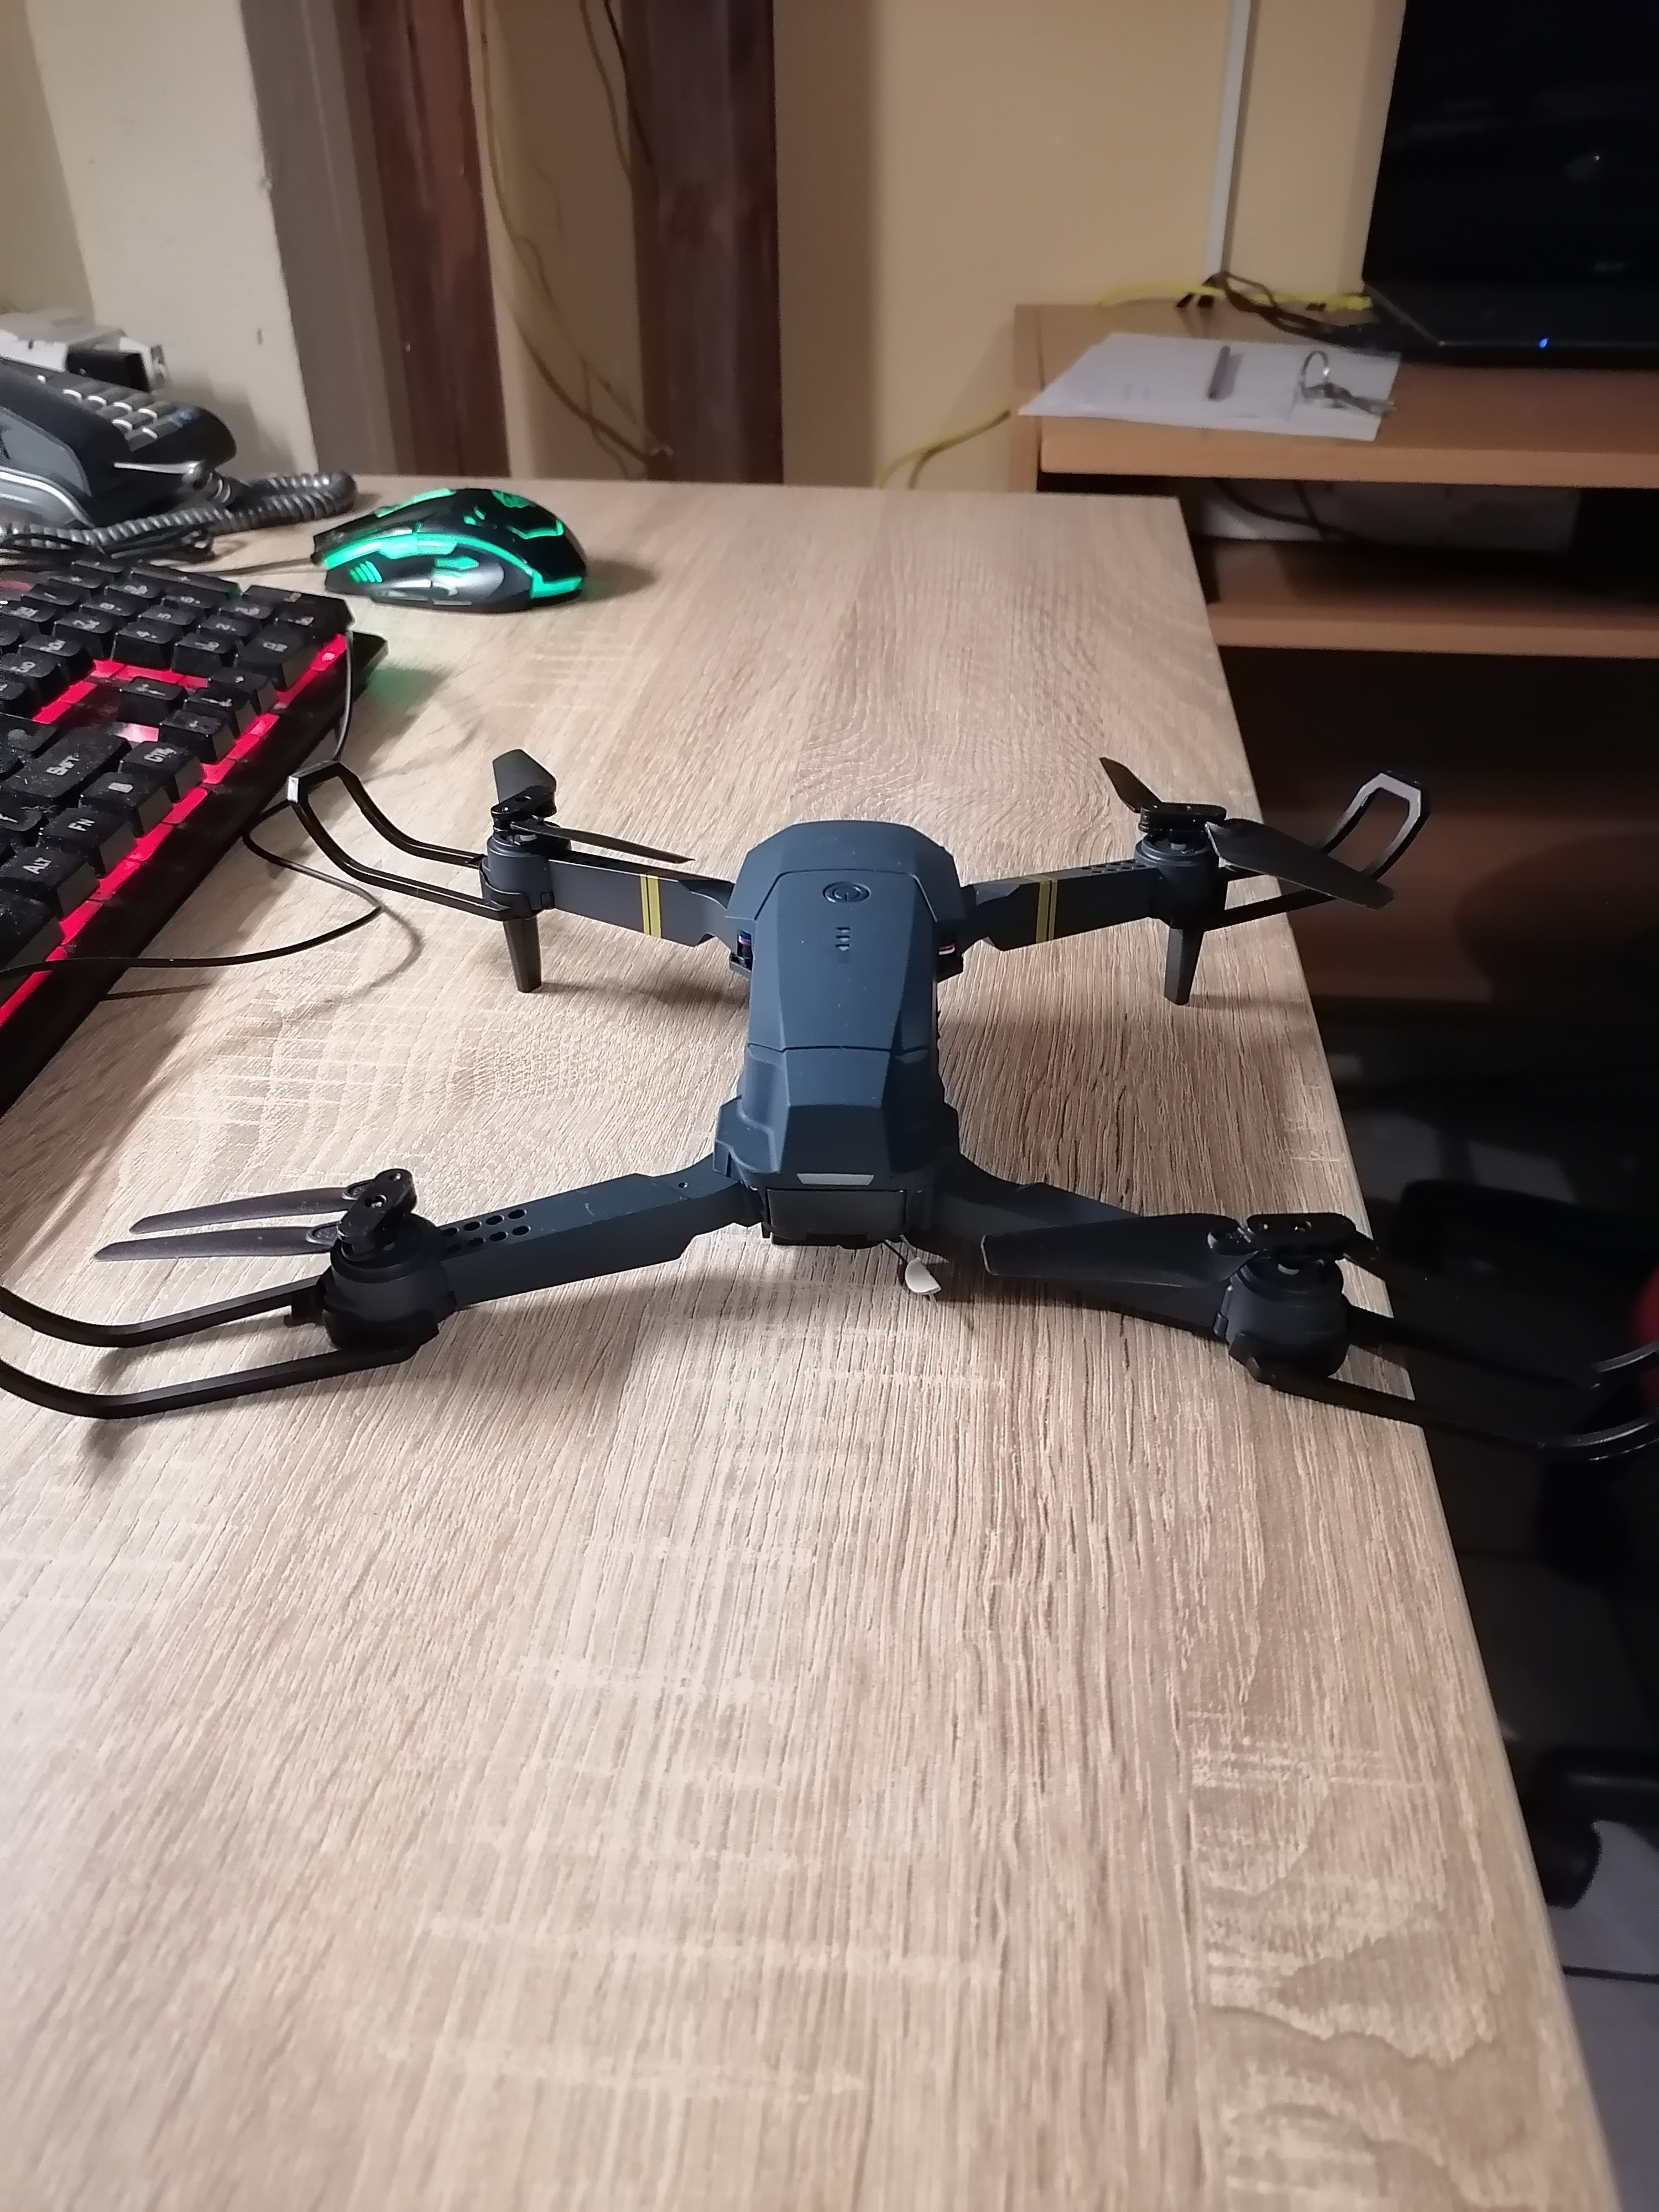drone: (206, 712, 1615, 1496)
